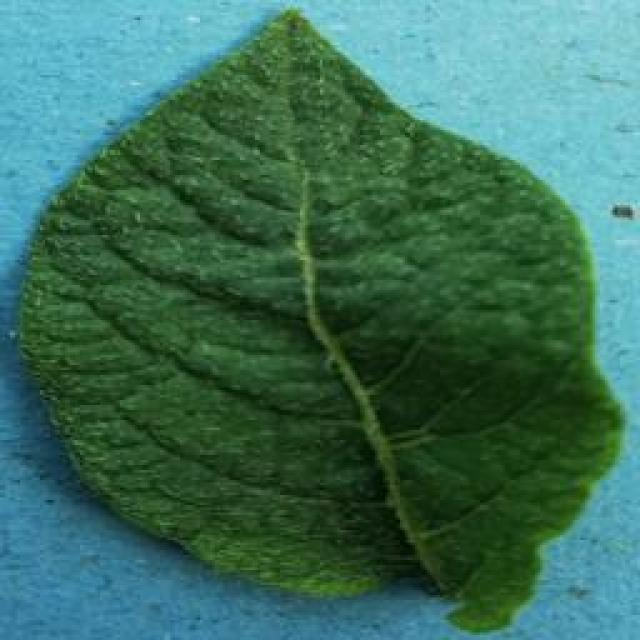Potato_Healthy: (18, 5, 617, 627)
